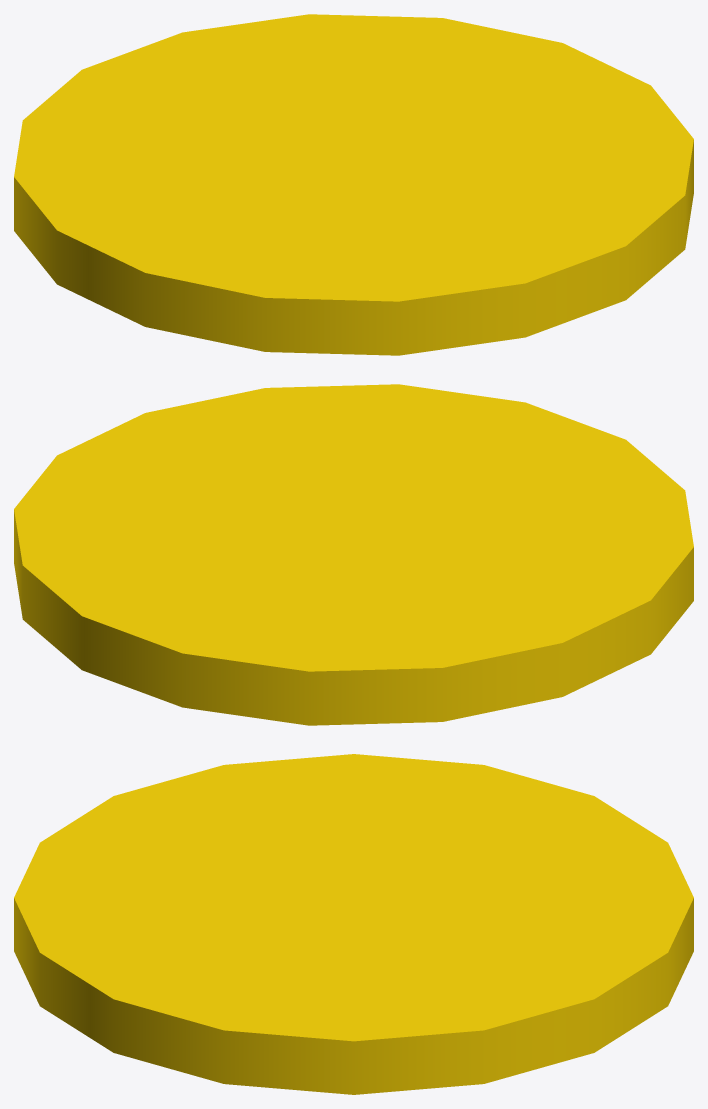
File: COIN.FBX
3 views of the same model, one above another, from view 1: azimuth 30°, elevation 25°; view 2: azimuth 150°, elevation 25°; view 3: azimuth 270°, elevation 25° (orthographic).
Visible parts, largest first — view 1: Cylinder001; view 2: Cylinder001; view 3: Cylinder001.
Part boxes in pixels (box(x1,y1,x2,y2)): Cylinder001: box(14, 14, 693, 355); Cylinder001: box(14, 384, 693, 725); Cylinder001: box(14, 754, 693, 1094).
Bounding box in the file's own units: 10.85 × 0.9437 × 10.85.
